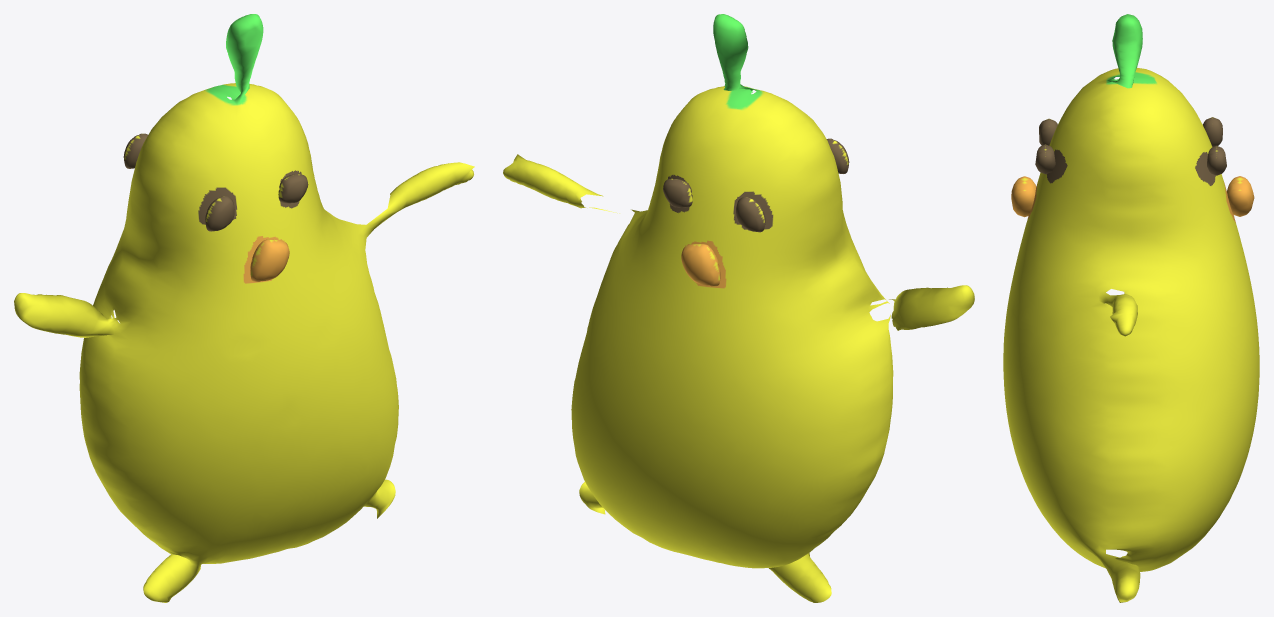
Rendered from asset.glb.
3 renders of one model, left to right at view 1: azimuth 30°, elevation 25°; view 2: azimuth 150°, elevation 25°; view 3: azimuth 270°, elevation 25°, orthographic.
Bounding box in the file's own units: 5.47 × 6.37 × 2.64.
1 material, 1 textured.
